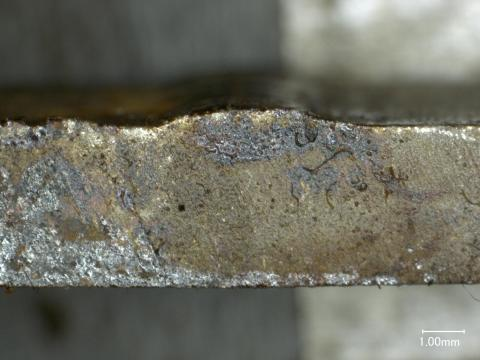test: (161, 111, 345, 127)
